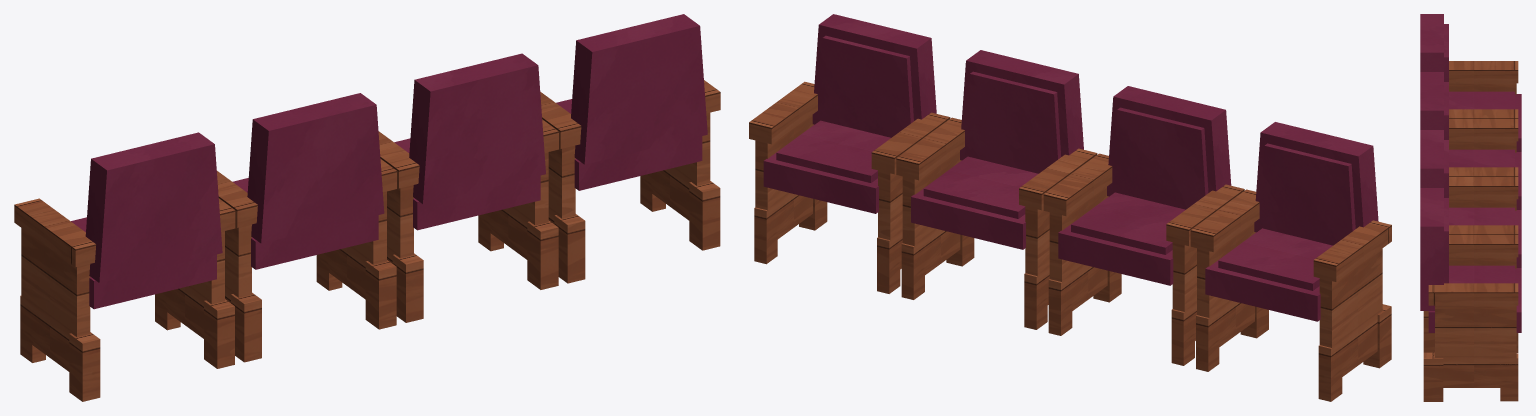
The model's file is SM_Theater_Seat_Group4.fbx.
The picture shows the model from 3 angles, left to right: view 1: azimuth 30°, elevation 25°; view 2: azimuth 150°, elevation 25°; view 3: azimuth 270°, elevation 25°; orthographic projection. The views are drawn at different scales.
Visible parts, largest first — view 1: SM_Theater_Seat_Group4_LOD0; view 2: SM_Theater_Seat_Group4_LOD0; view 3: SM_Theater_Seat_Group4_LOD0.
Part boxes in pixels (box(x1,y1,x2,y2)): SM_Theater_Seat_Group4_LOD0: box(14, 14, 720, 401); SM_Theater_Seat_Group4_LOD0: box(749, 14, 1391, 401); SM_Theater_Seat_Group4_LOD0: box(1420, 14, 1521, 401).
Size of what is drawn, in the model's own units: 3.35 by 1.13 by 0.62.
